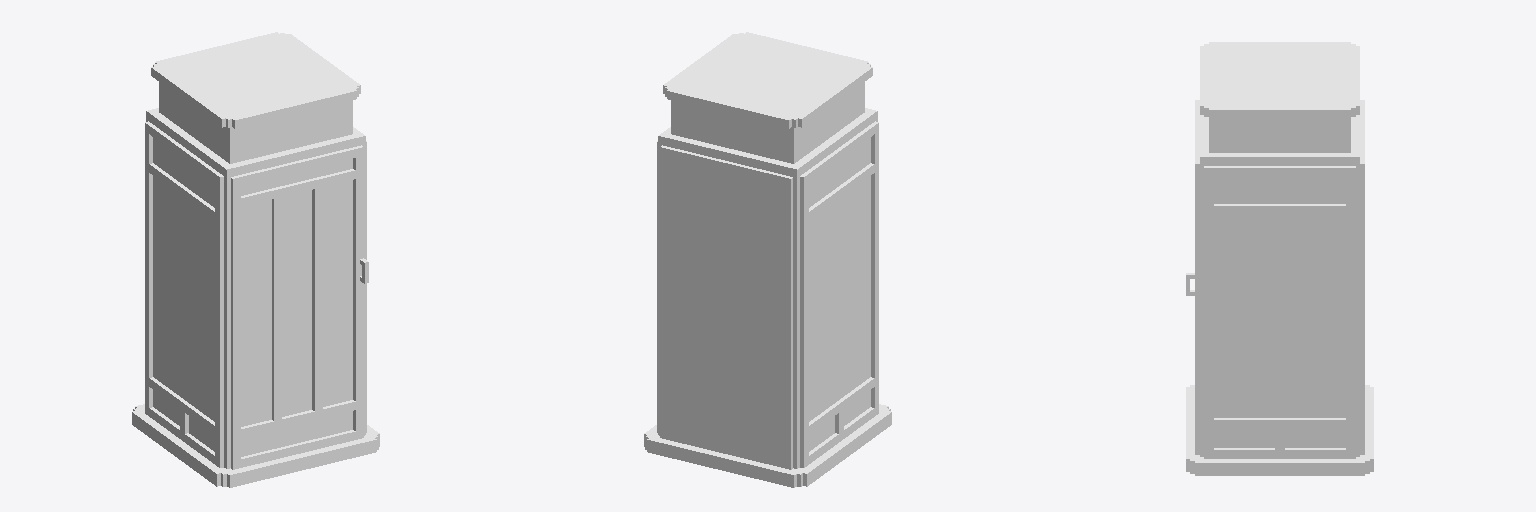
Rendered from others2-3.obj.
The picture shows the model from 3 angles: view 1: azimuth 30°, elevation 25°; view 2: azimuth 150°, elevation 25°; view 3: azimuth 270°, elevation 25°; orthographic projection.
Parts seen in each view (by area): view 1: object 1; view 2: object 1; view 3: object 1.
Part boxes in pixels (bbox=[...]): object 1: bbox=[132, 32, 379, 487]; object 1: bbox=[644, 32, 891, 487]; object 1: bbox=[1186, 42, 1373, 475].
Size of the model in its own units: 4 by 8.4 by 4.